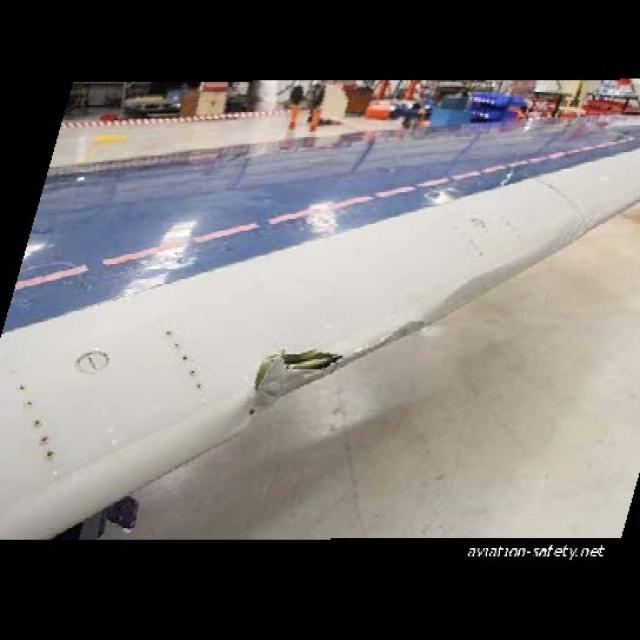crack: (244, 347, 350, 421)
dent: (437, 260, 540, 322), (386, 324, 429, 346)
